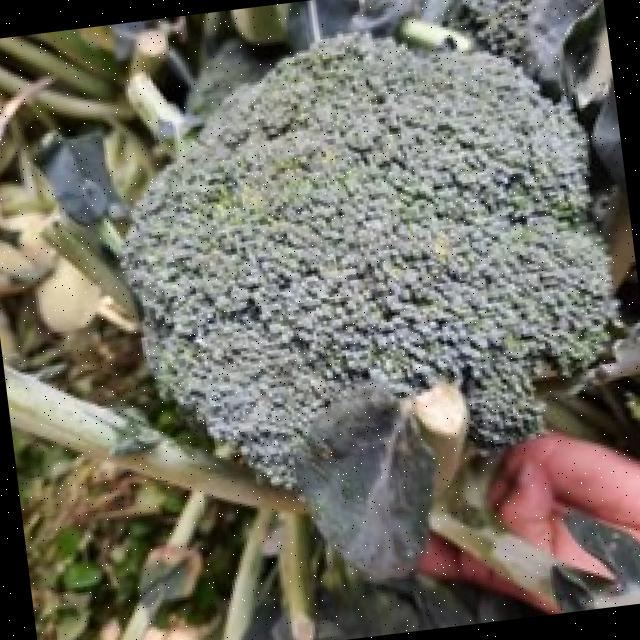Broccoli: (121, 37, 612, 484), (122, 37, 611, 484)
